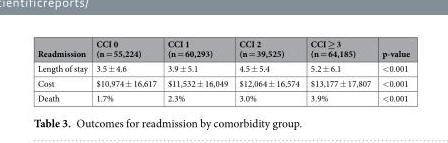table: (36, 37, 409, 103)
table column: (232, 37, 304, 103), (161, 37, 232, 103), (304, 37, 375, 103), (91, 37, 161, 103), (36, 37, 91, 103), (375, 37, 409, 103)
table column header: (36, 37, 409, 60)
table row: (36, 37, 409, 60), (36, 60, 409, 75), (36, 75, 409, 90), (36, 90, 409, 103)
